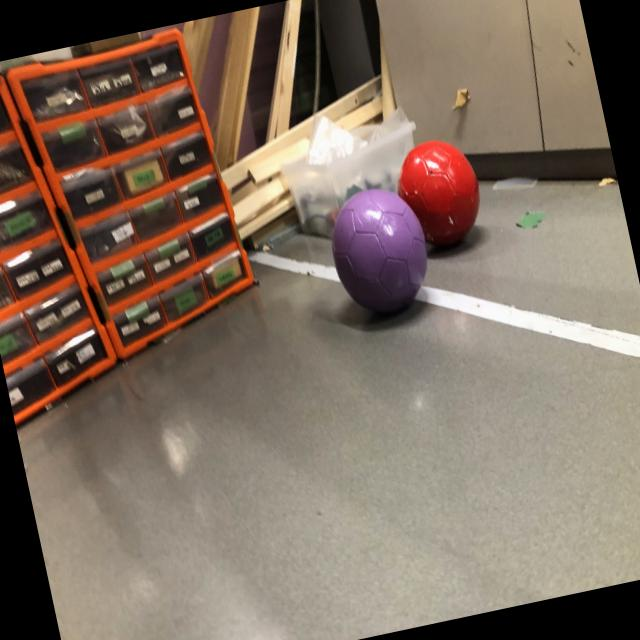purple_ball: (321, 181, 440, 321)
red_ball: (389, 132, 492, 254)
